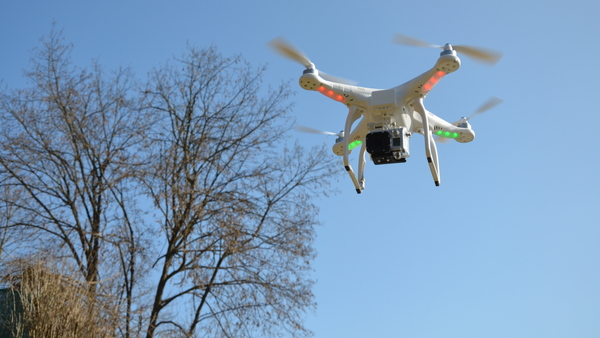drone: (265, 32, 509, 196)
